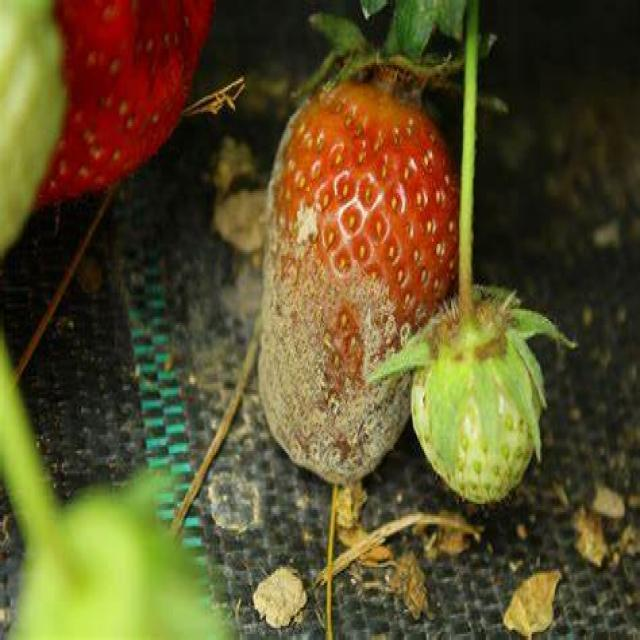Fruta sana: (19, 0, 222, 208)
Moho gris: (265, 41, 458, 484)
